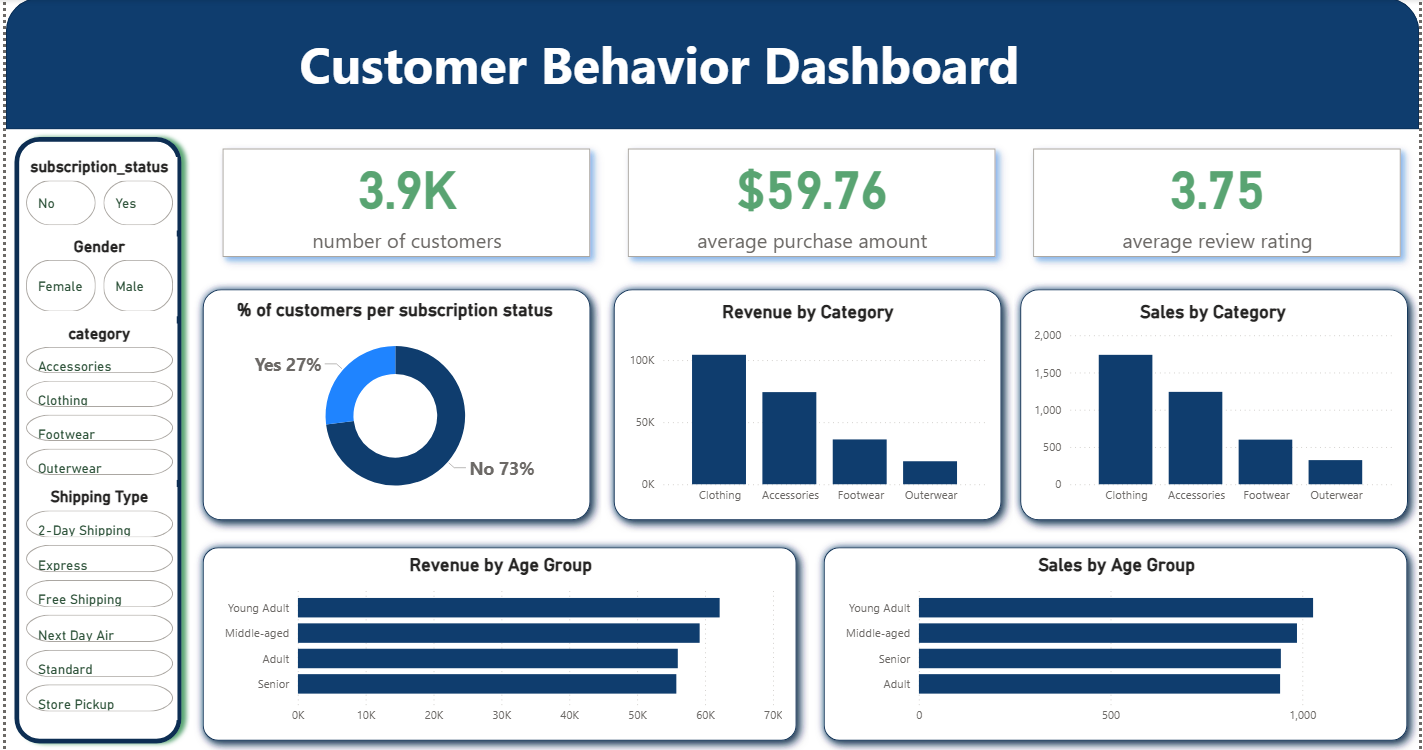

The dashboard page shown, as its layout file describes it:
{"tool":"powerbi","page":{"name":"Page 1","canvas":[1500,800],"ordinal":0},"visuals":[{"type":"cardVisual","fields":{"Data":["customer_shopping_behavior customer.number of customers","customer_shopping_behavior customer.average purchase amount","customer_shopping_behavior customer.average review rating"]},"box":[207.8,139.2,1292.2,157.2],"z":0},{"type":"shape","box":[0,0,1499.3,139.5],"z":1000},{"type":"textbox","box":[287.9,28.8,810.5,81.9],"z":2000},{"type":"shape","box":[1062.7,296.4,437.4,271.1],"z":4000},{"type":"shape","box":[195.2,296.4,437.4,271.1],"z":5000},{"type":"shape","box":[632.5,296.4,437.4,271.1],"z":6000},{"type":"clusteredColumnChart","title":"Revenue by Category","fields":{"Y":["Sum(customer_shopping_behavior customer.purchase_amount)"],"Category":["customer_shopping_behavior customer.category"]},"box":[656,321.7,390.4,224.1],"z":6001},{"type":"donutChart","title":"% of customers per subscription  status","fields":{"Category":["customer_shopping_behavior customer.subscription_status"],"Y":["CountNonNull(customer_shopping_behavior customer.customer_id)"]},"box":[215.1,319.9,395.8,224.1],"z":6002},{"type":"clusteredColumnChart","title":"Sales by Category","fields":{"Y":["CountNonNull(customer_shopping_behavior customer.customer_id)"],"Category":["customer_shopping_behavior customer.category"]},"box":[1086.2,321.7,390.4,224.1],"z":6003},{"type":"shape","box":[0,139.2,195.2,661.5],"z":6004},{"type":"advancedSlicerVisual","fields":{"Values":["customer_shopping_behavior customer.subscription_status"]},"box":[16.3,168.1,166.3,77.7],"z":6005},{"type":"advancedSlicerVisual","title":"Gender","fields":{"Values":["customer_shopping_behavior customer.gender"]},"box":[16.3,253,166.3,84.9],"z":6006},{"type":"advancedSlicerVisual","fields":{"Values":["customer_shopping_behavior customer.category"]},"box":[16.3,345.2,166.3,166.3],"z":6007},{"type":"advancedSlicerVisual","title":"Shipping Type","fields":{"Values":["customer_shopping_behavior customer.shipping_type"]},"box":[16.3,518.7,166.3,247.6],"z":6008},{"type":"shape","box":[195.2,569.3,656,231.3],"z":6011},{"type":"shape","box":[854.8,569.3,645.2,231.3],"z":6012},{"type":"clusteredBarChart","title":"Revenue by Age Group","fields":{"Y":["Sum(customer_shopping_behavior customer.purchase_amount)"],"Category":["customer_shopping_behavior customer.age_group"]},"box":[220.5,591,607.2,188],"z":6013},{"type":"clusteredBarChart","title":"Sales by Age Group","fields":{"Y":["CountNonNull(customer_shopping_behavior customer.customer_id)"],"Category":["customer_shopping_behavior customer.age_group"]},"box":[880.1,591,596.4,188],"z":6014}]}

Visuals, with their boxes in screenshot pixels (x1, y1, x2, y2), scaled from the page's 1500x800 canvas onto the 1423x750 screenshot:
cardVisual - customer_shopping_behavior customer.number of customers x customer_shopping_behavior customer.average purchase amount: 197,130,1422,278
shape: 0,0,1422,131
textbox: 273,27,1042,104
shape: 1008,278,1422,532
shape: 185,278,600,532
shape: 600,278,1015,532
"Revenue by Category" clusteredColumnChart: 622,302,993,512
"% of customers per subscription  status" donutChart: 204,300,580,510
"Sales by Category" clusteredColumnChart: 1030,302,1401,512
shape: 0,130,185,749
advancedSlicerVisual - customer_shopping_behavior customer.subscription_status: 15,158,173,230
"Gender" advancedSlicerVisual: 15,237,173,317
advancedSlicerVisual - customer_shopping_behavior customer.category: 15,324,173,480
"Shipping Type" advancedSlicerVisual: 15,486,173,718
shape: 185,534,808,749
shape: 811,534,1422,749
"Revenue by Age Group" clusteredBarChart: 209,554,785,730
"Sales by Age Group" clusteredBarChart: 835,554,1401,730
